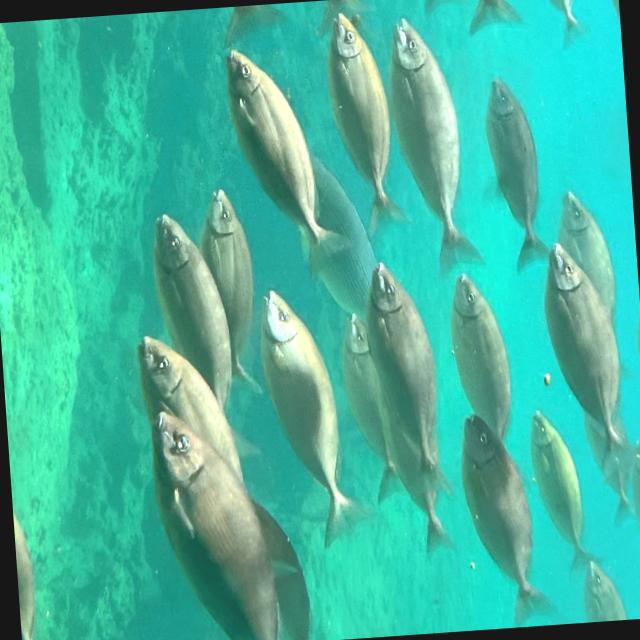Sokar Baligi: (214, 29, 362, 268), (248, 278, 378, 548), (396, 6, 504, 283)
